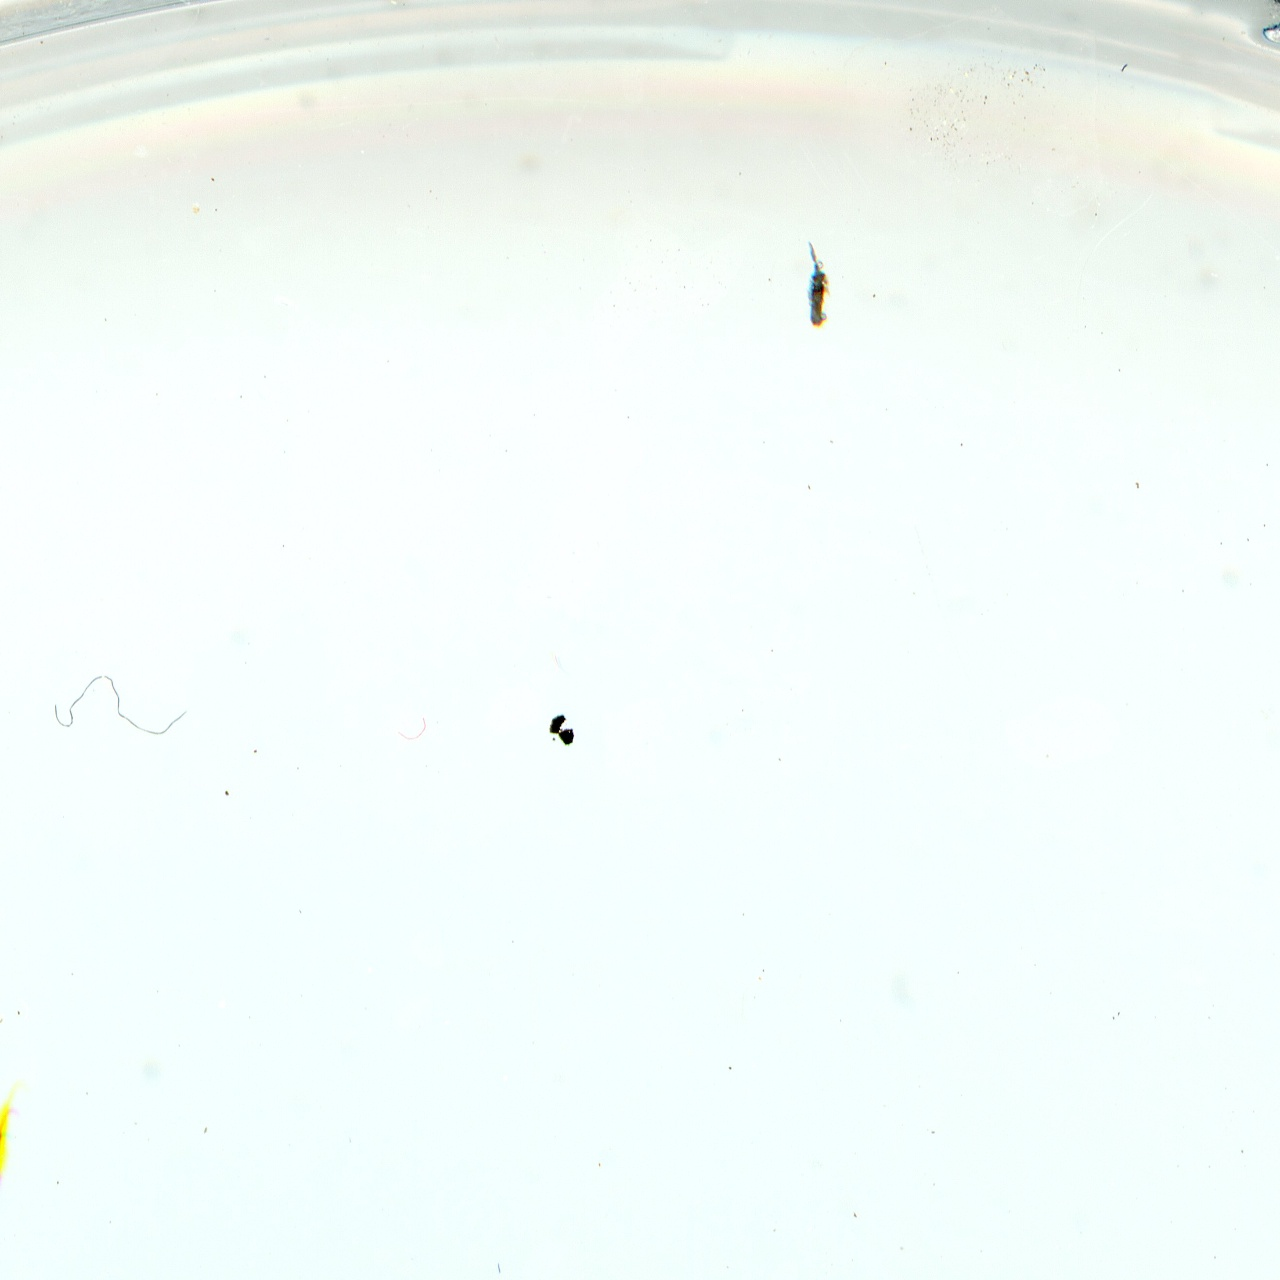arthropod: (0, 1063, 44, 1249), (804, 239, 834, 331)
